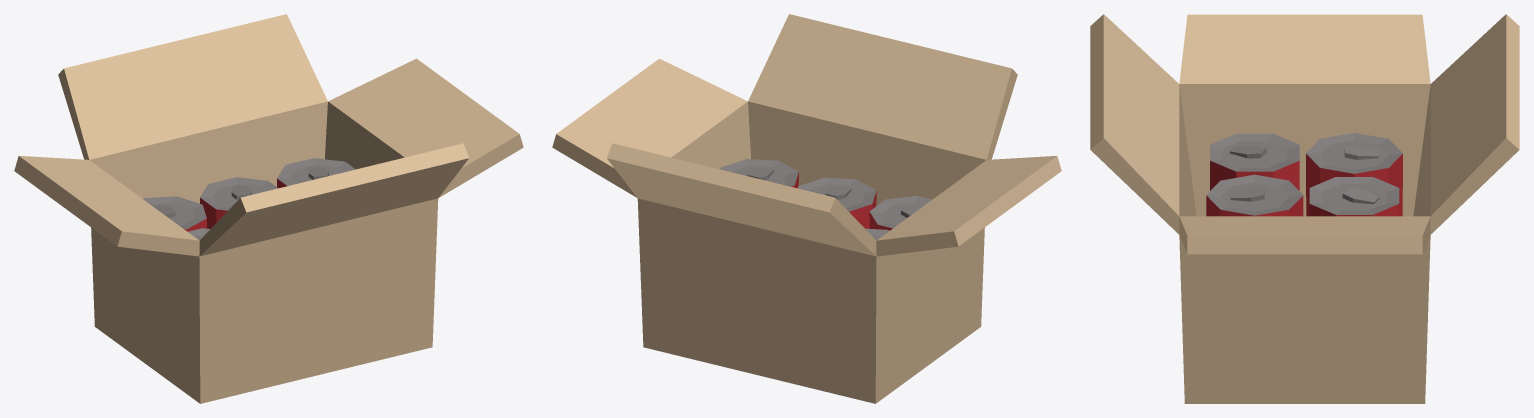
Rendered from can-beans-box.glb.
The picture shows the model from 3 angles, left to right: view 1: azimuth 30°, elevation 25°; view 2: azimuth 150°, elevation 25°; view 3: azimuth 270°, elevation 25°; orthographic projection. The views are drawn at different scales.
Parts seen in each view (by area): view 1: can-beans-box; view 2: can-beans-box; view 3: can-beans-box.
Boxes of the visible parts, box(x1,y1,x2,y2) form: can-beans-box: box(14, 14, 523, 403); can-beans-box: box(552, 14, 1061, 403); can-beans-box: box(1090, 14, 1519, 403).
Size of the model in its own units: 0.6806 by 0.3701 by 0.5463.
1 material, 1 textured.
